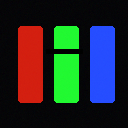3 line_h: (46, 49, 82, 53)
